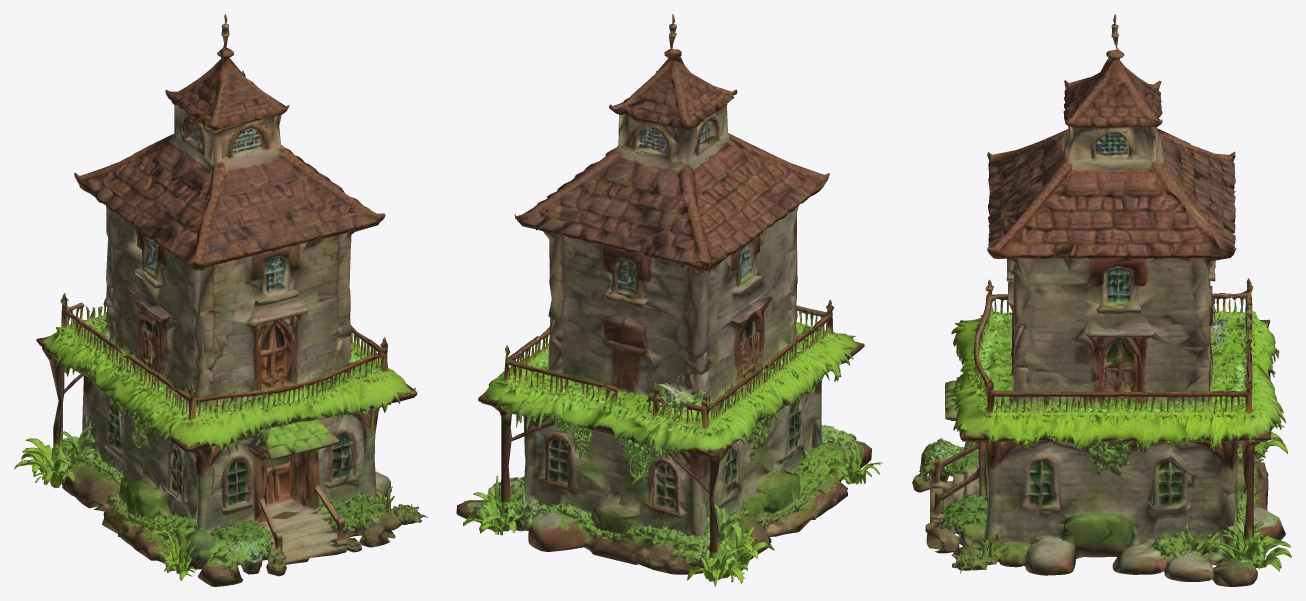
The model's file is bq_tower_house.glb.
3 views of the same model, side by side, from view 1: azimuth 30°, elevation 25°; view 2: azimuth 150°, elevation 25°; view 3: azimuth 270°, elevation 25° (orthographic). The views are drawn at different scales.
Bounding box in the file's own units: 1.21 × 1.91 × 1.32.
Materials: 1 (1 with a texture image).
